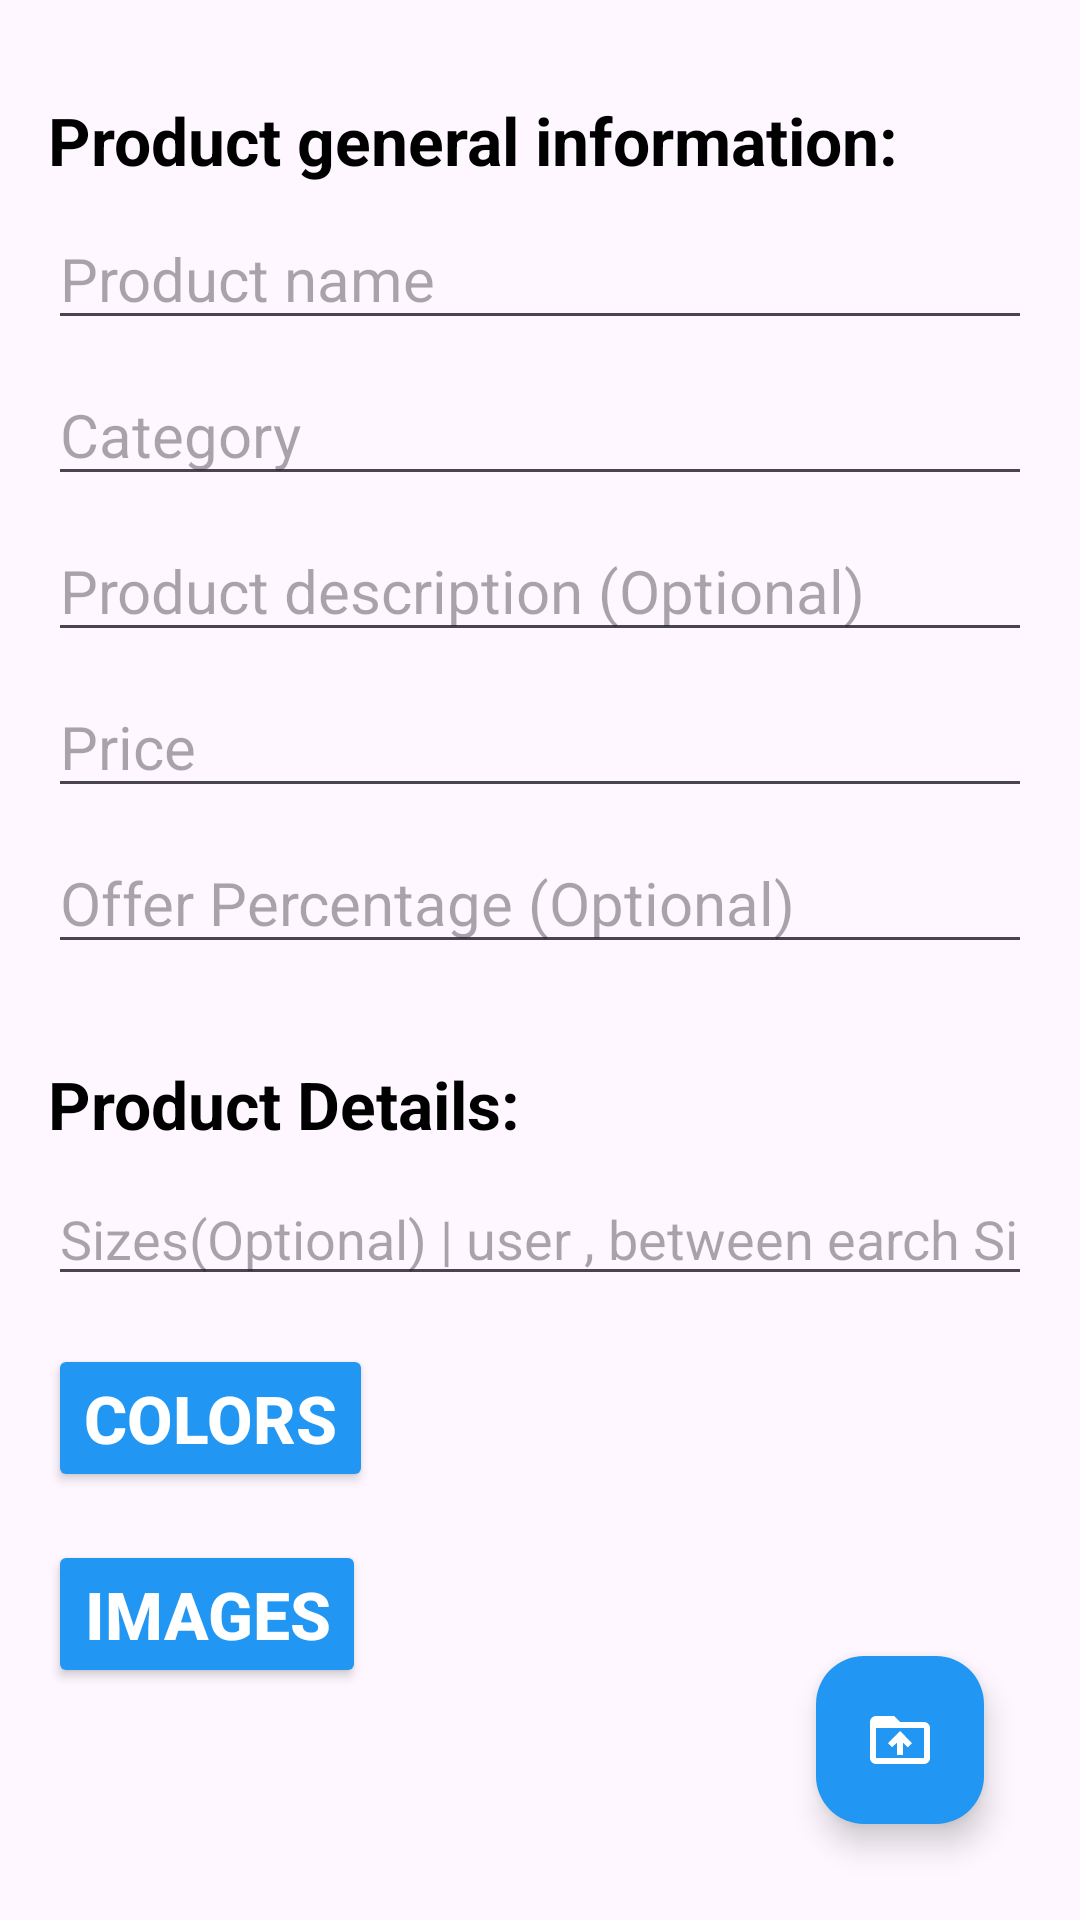

Named icons in this screenshot (1080w x 1920h) and their bounding boxes, (x1, y1, x2, y2):
drive folder upload: (816, 1656, 984, 1824)
